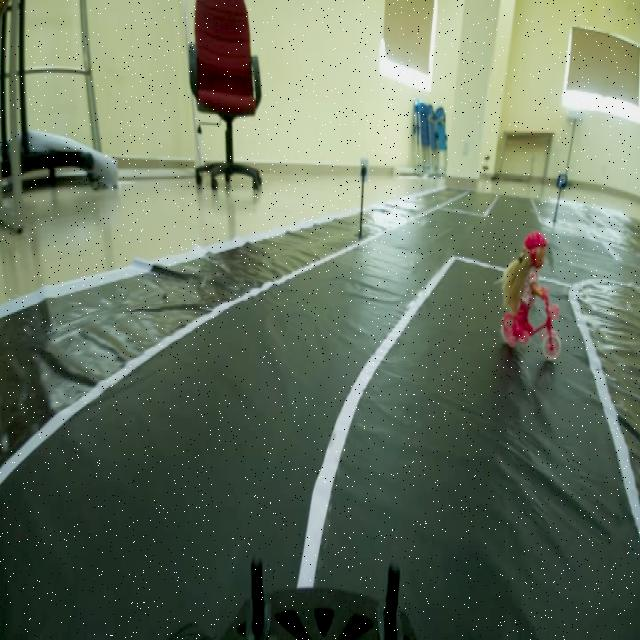pedestrian: (499, 215, 561, 382)
